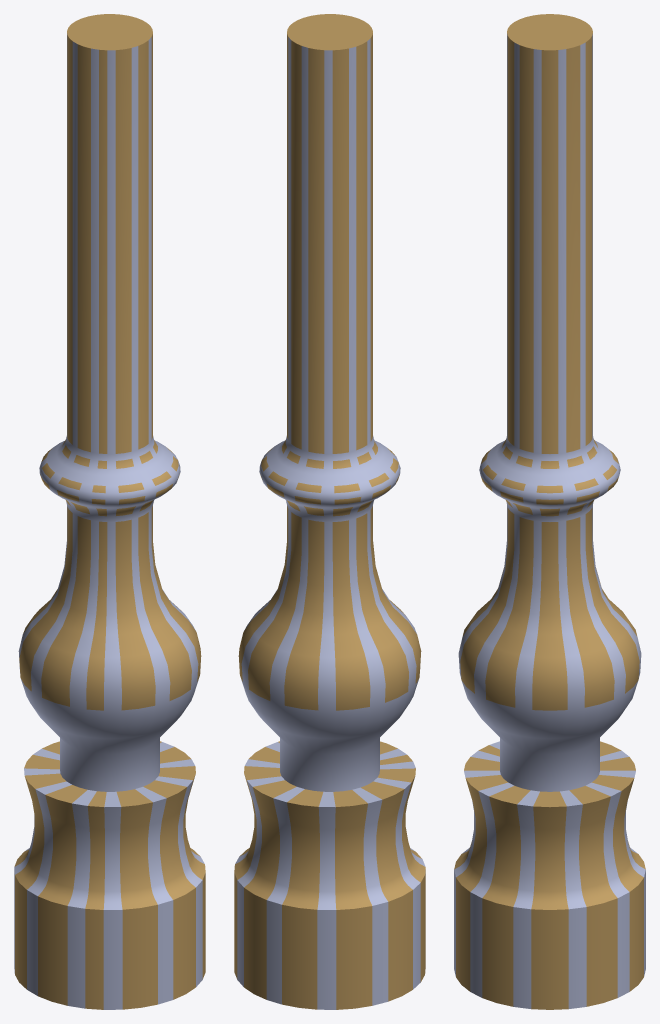
Rendered from SM_Blockout_Pilier_01.fbx.
3 views of the same model, side by side, from view 1: azimuth 30°, elevation 25°; view 2: azimuth 150°, elevation 25°; view 3: azimuth 270°, elevation 25° (orthographic).
Visible parts, largest first — view 1: Pilier_1; view 2: Pilier_1; view 3: Pilier_1.
Boxes of the visible parts, x1,y1,x2,y2 form: Pilier_1: (14,14,205,1009); Pilier_1: (234,14,425,1009); Pilier_1: (454,14,645,1009).
Bounding box in the file's own units: 111 × 600 × 111.
